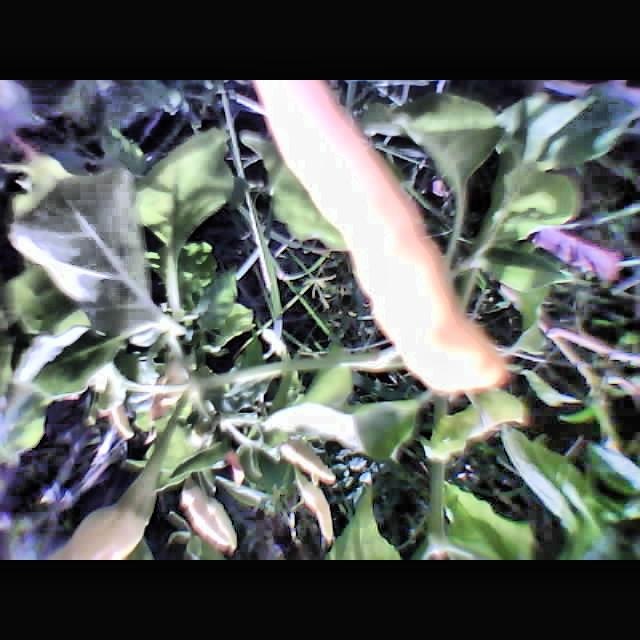Cabai: (256, 80, 537, 402)
